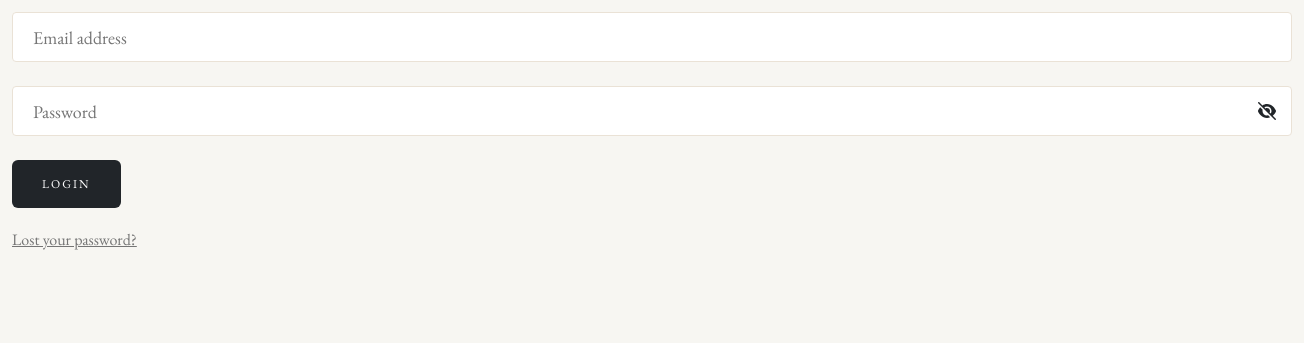
Test: LoginForm component › shows error message for invalid email
In the field labelled "Email address": point(652, 37) 12,12 -> 1292,62, type "invalid-email"
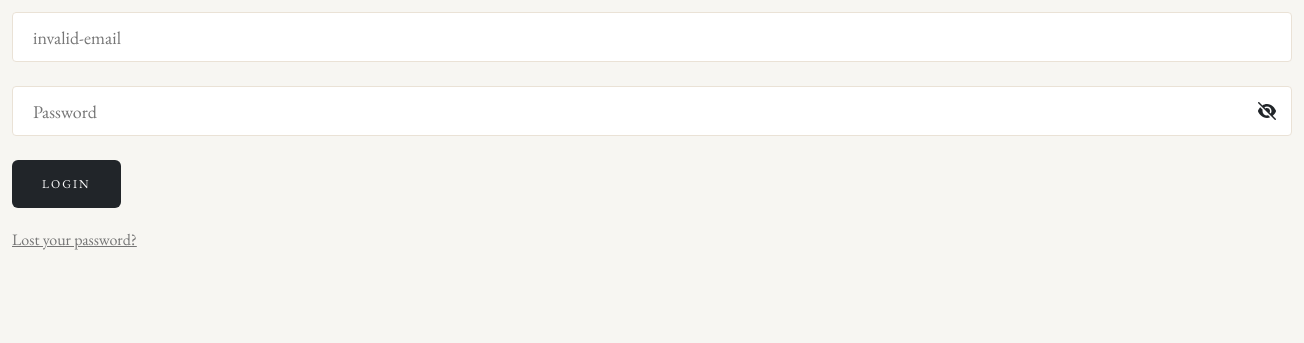
Click the button "Login": point(66, 184) 12,160 -> 120,208
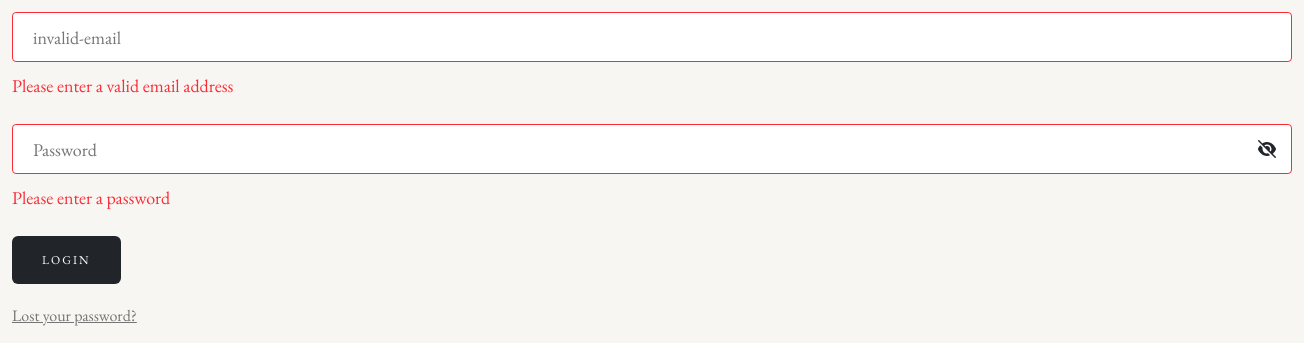
Check: the text "Please enter a valid email address" is shown, box 12,74 -> 233,97
